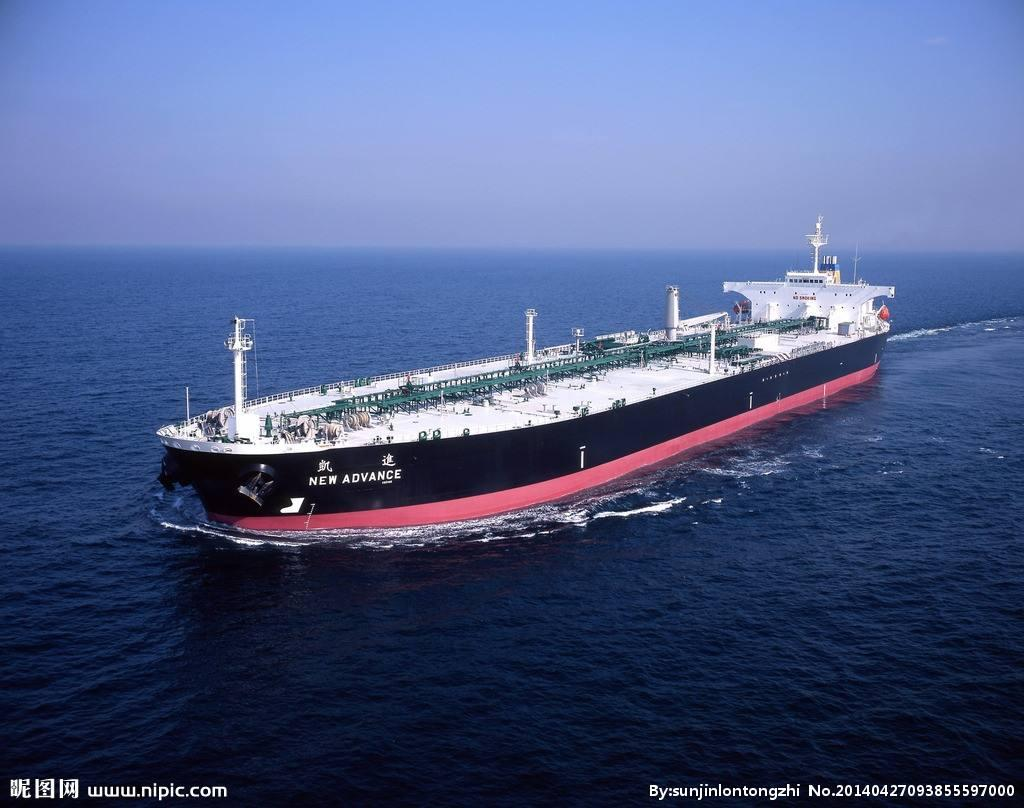Cargoship: (165, 210, 904, 525)
